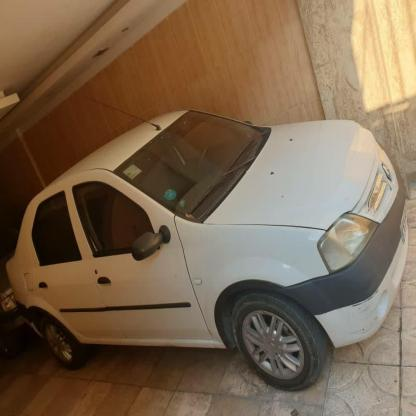Car: (0, 91, 401, 395)
